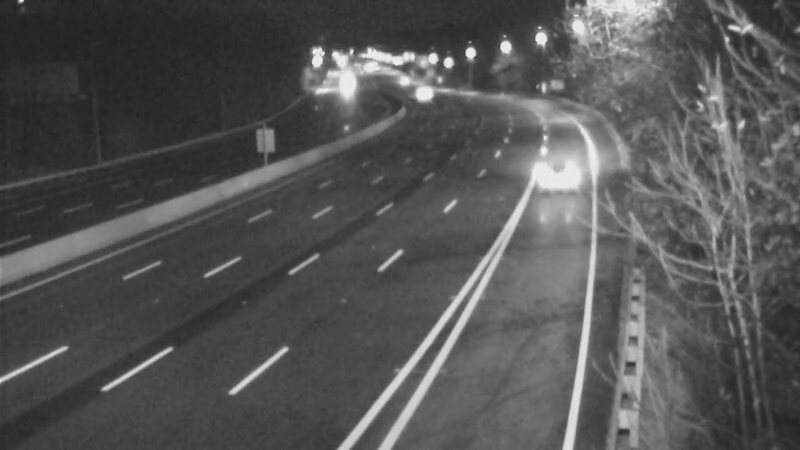vehicle: (515, 128, 595, 208), (378, 54, 428, 104), (397, 70, 447, 120)
